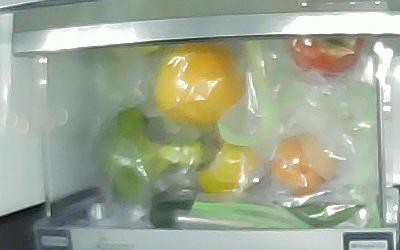apple_vinyl: (286, 37, 364, 77)
broccoli_vinyl: (97, 108, 203, 203)
cucumber_vinyl: (147, 197, 366, 228)
grapefruit_vinyl: (155, 42, 244, 125)
persimmon_vinyl: (196, 128, 259, 194), (272, 135, 336, 195)
